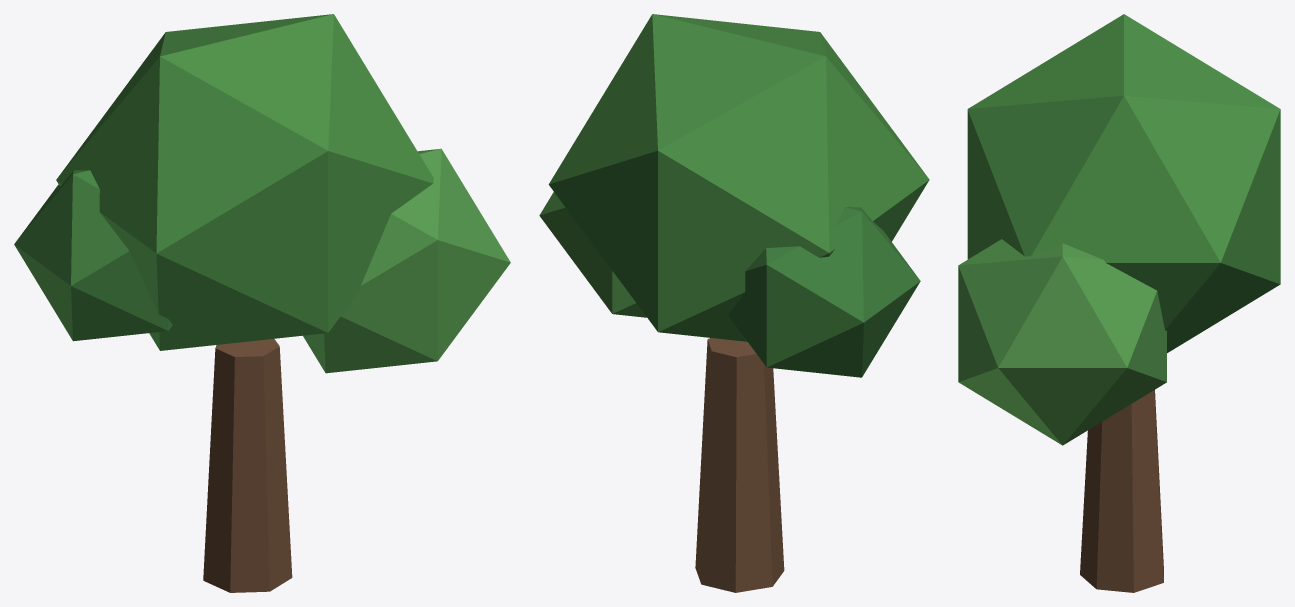
File: tree_oak_01.glb
3 views of the same model, side by side, from view 1: azimuth 30°, elevation 25°; view 2: azimuth 150°, elevation 25°; view 3: azimuth 270°, elevation 25° (orthographic). The views are drawn at different scales.
Parts seen in each view (by area): view 1: tree_oak_01_part1, tree_oak_01_part2, tree_oak_01_part0, tree_oak_01_part3; view 2: tree_oak_01_part1, tree_oak_01_part3, tree_oak_01_part0, tree_oak_01_part2; view 3: tree_oak_01_part1, tree_oak_01_part2, tree_oak_01_part0.
Boxes of the visible parts, bbox=[...] form: tree_oak_01_part1: bbox=[56, 14, 433, 350]; tree_oak_01_part2: bbox=[303, 148, 510, 373]; tree_oak_01_part0: bbox=[203, 339, 292, 592]; tree_oak_01_part3: bbox=[14, 170, 172, 341]; tree_oak_01_part1: bbox=[548, 14, 929, 341]; tree_oak_01_part3: bbox=[728, 207, 920, 377]; tree_oak_01_part0: bbox=[695, 338, 784, 592]; tree_oak_01_part2: bbox=[539, 192, 646, 317]; tree_oak_01_part1: bbox=[967, 14, 1280, 352]; tree_oak_01_part2: bbox=[958, 239, 1166, 445]; tree_oak_01_part0: bbox=[1080, 390, 1163, 592].
Size of the model in its own units: 3.42 by 4.68 by 2.63.
